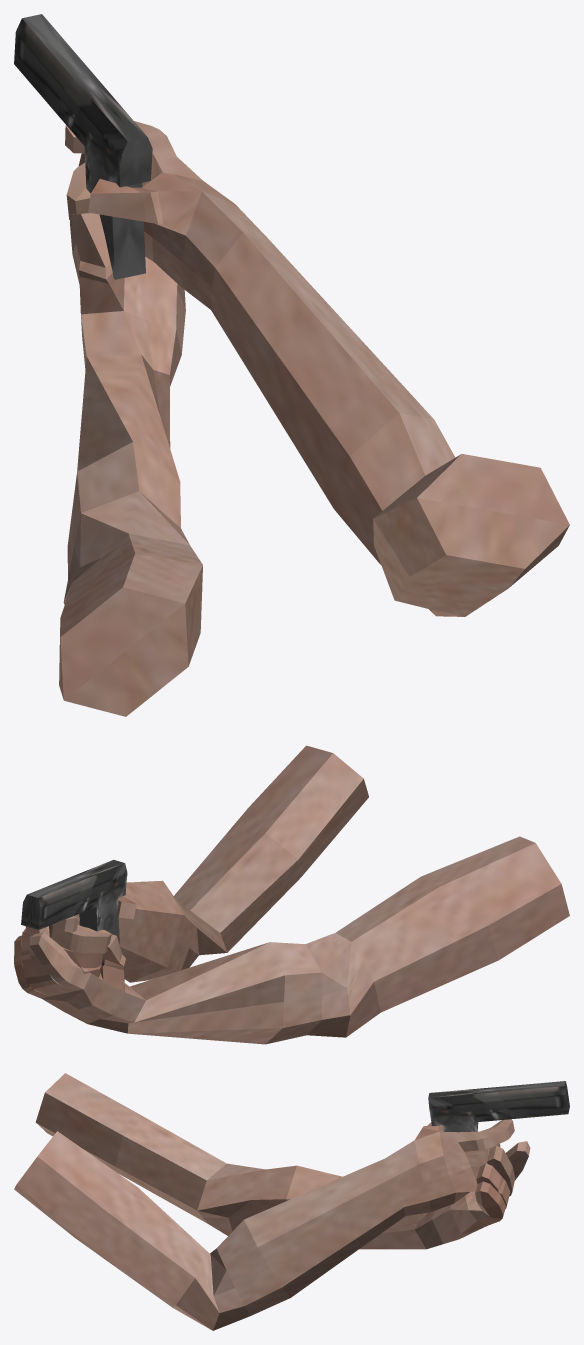
File: player.obj
The picture shows the model from 3 angles, top to bottom: view 1: azimuth 30°, elevation 25°; view 2: azimuth 150°, elevation 25°; view 3: azimuth 270°, elevation 25°; orthographic projection. The views are drawn at different scales.
Parts seen in each view (by area): view 1: Arms_Model_Cube.002, Cube; view 2: Arms_Model_Cube.002, Cube; view 3: Arms_Model_Cube.002, Cube.
Part boxes in pixels (left/top/right/bottom): Arms_Model_Cube.002: left=59, top=121, right=569, bottom=716; Cube: left=14, top=14, right=152, bottom=279; Arms_Model_Cube.002: left=14, top=745, right=569, bottom=1044; Cube: left=21, top=859, right=127, bottom=965; Arms_Model_Cube.002: left=14, top=1073, right=530, bottom=1330; Cube: left=428, top=1081, right=569, bottom=1132.
Size of the model in its own units: 0.6058 by 0.3972 by 0.9345.
